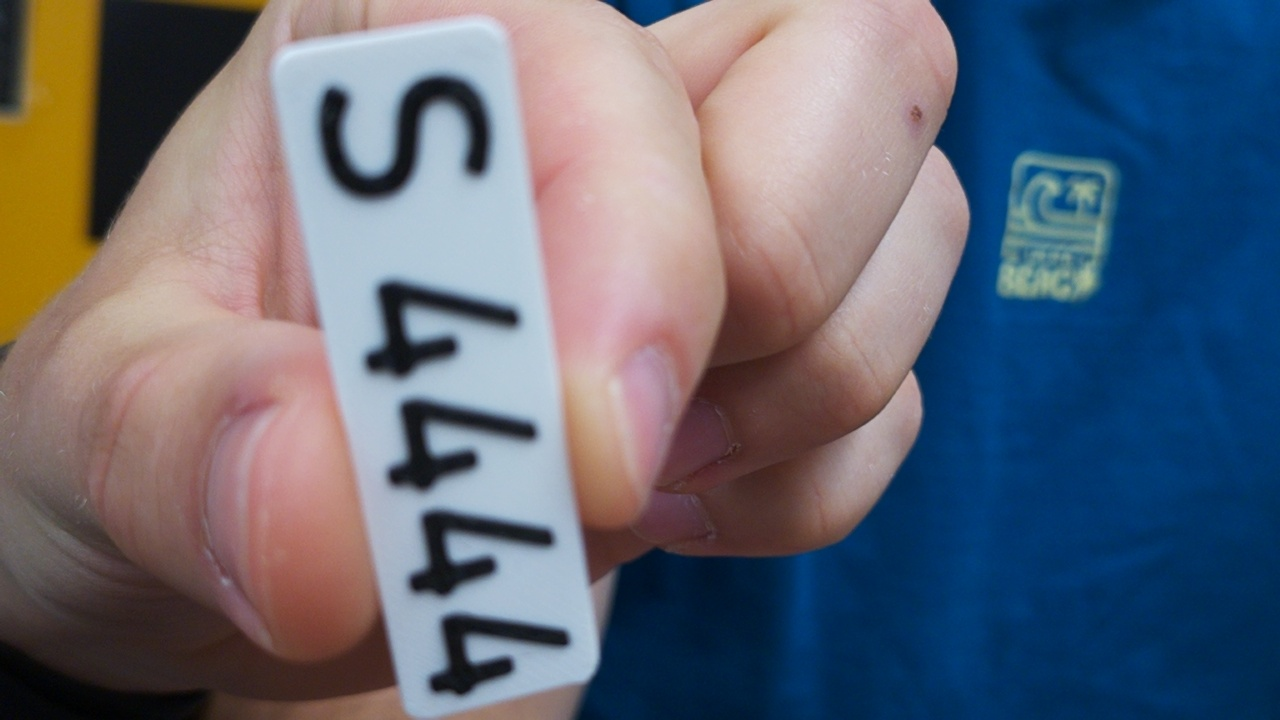license_plate: (265, 10, 606, 719)
